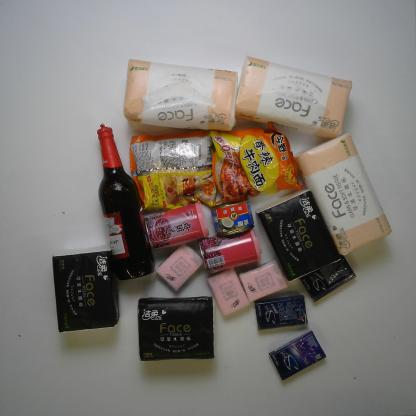Alcohol: (92, 121, 158, 282)
Canned Food: (142, 201, 212, 253), (196, 227, 264, 277), (207, 198, 256, 238)
Gum: (266, 328, 329, 382), (297, 253, 358, 305), (252, 292, 310, 333)
Instant Noodles: (123, 127, 228, 214), (207, 120, 307, 206)
Tissue: (291, 130, 396, 257), (231, 52, 355, 140), (120, 56, 241, 135), (254, 186, 343, 283), (48, 246, 122, 335), (135, 295, 217, 364), (154, 243, 205, 293), (237, 257, 291, 304), (206, 266, 252, 319)
